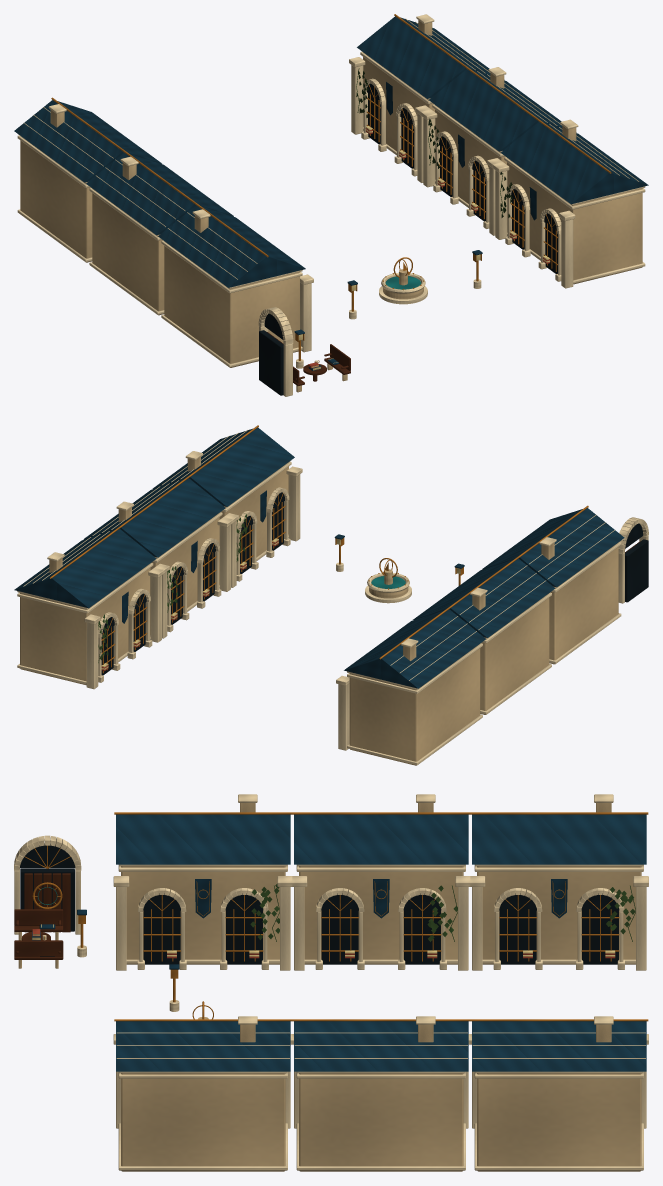
Rendered from courtyard.glb.
3 views of the same model, one above another, from view 1: azimuth 30°, elevation 25°; view 2: azimuth 150°, elevation 25°; view 3: azimuth 270°, elevation 25° (orthographic). The views are drawn at different scales.
Visible parts, largest first — view 1: Benchmark slate, Benchmark limestone, Benchmark carved edge, Benchmark ink, Benchmark brass, Benchmark wood, Benchmark moss; view 2: Benchmark slate, Benchmark limestone, Benchmark carved edge, Benchmark ink, Benchmark brass, Benchmark moss; view 3: Benchmark limestone, Benchmark slate, Benchmark carved edge, Benchmark ink, Benchmark brass, Benchmark wood, Benchmark moss.
Part boxes in pixels (x1,y1,x2,y2): Benchmark slate: (14,16,648,370); Benchmark limestone: (20,20,642,392); Benchmark carved edge: (17,14,645,396); Benchmark ink: (259,83,558,395); Benchmark brass: (51,14,611,362); Benchmark wood: (267,332,350,385); Benchmark moss: (356,68,512,217); Benchmark slate: (14,427,624,688); Benchmark limestone: (20,456,618,765); Benchmark carved edge: (17,430,648,765); Benchmark ink: (101,492,648,675); Benchmark brass: (50,425,588,673); Benchmark moss: (98,514,247,663); Benchmark limestone: (18,803,641,1171); Benchmark slate: (32,814,646,1071); Benchmark carved edge: (14,794,648,1170); Benchmark ink: (20,843,619,964); Benchmark brass: (24,812,648,1021); Benchmark wood: (14,873,70,959); Benchmark moss: (250,884,635,941).
Bounding box in the file's own units: 27 × 6.91 × 28.54.
Materials: 10 (10 with a texture image).
